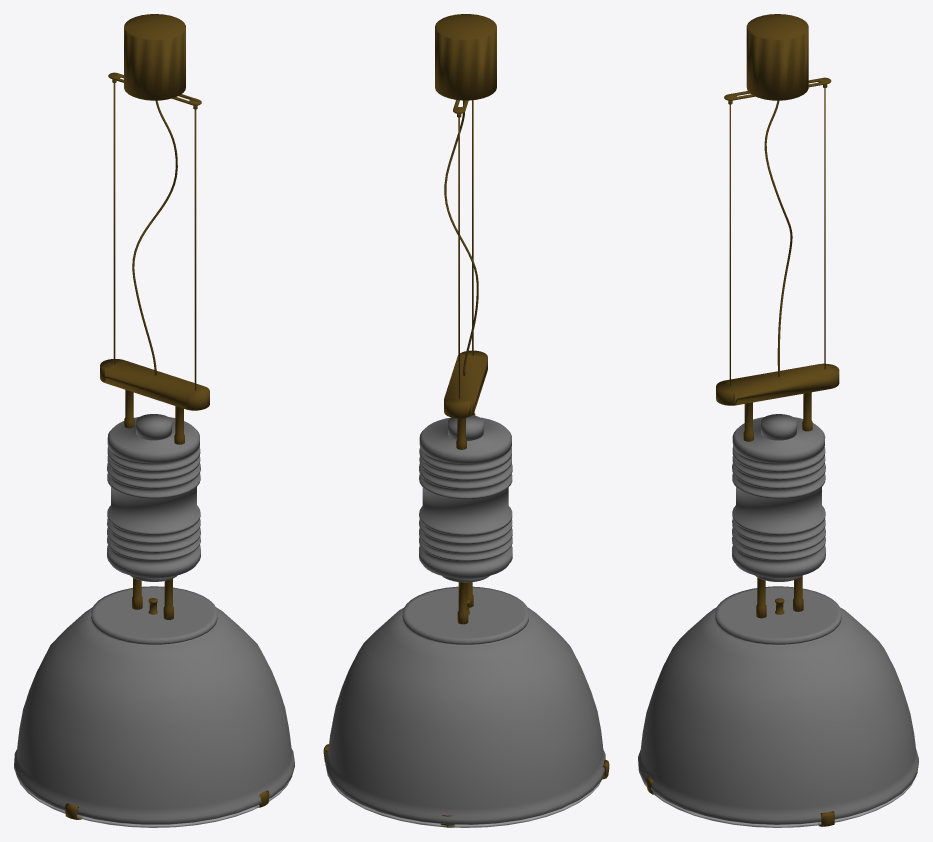
3 renders of one model, left to right at view 1: azimuth 30°, elevation 25°; view 2: azimuth 150°, elevation 25°; view 3: azimuth 270°, elevation 25°, orthographic.
Visible parts, largest first — view 1: mesh7-geometry-0, mesh8-geometry-0, mesh13-geometry-0, mesh19-geometry-0, mesh6-geometry-0, mesh14-geometry-0, mesh17-geometry-0, mesh18-geometry-0; view 2: mesh7-geometry-0, mesh8-geometry-0, mesh13-geometry-0, mesh19-geometry-0, mesh6-geometry-0, mesh18-geometry-0, mesh14-geometry-0; view 3: mesh7-geometry-0, mesh8-geometry-0, mesh13-geometry-0, mesh19-geometry-0, mesh6-geometry-0, mesh18-geometry-0, mesh14-geometry-0, mesh17-geometry-0.
Boxes of the visible parts, x1=… form: mesh7-geometry-0: x1=14, y1=586, x2=294, y2=824; mesh8-geometry-0: x1=107, y1=414, x2=200, y2=581; mesh13-geometry-0: x1=124, y1=14, x2=185, y2=100; mesh19-geometry-0: x1=100, y1=359, x2=209, y2=410; mesh6-geometry-0: x1=16, y1=774, x2=290, y2=827; mesh14-geometry-0: x1=113, y1=73, x2=115, y2=364; mesh17-geometry-0: x1=194, y1=99, x2=196, y2=390; mesh18-geometry-0: x1=132, y1=100, x2=177, y2=375; mesh7-geometry-0: x1=325, y1=586, x2=605, y2=824; mesh8-geometry-0: x1=419, y1=415, x2=512, y2=582; mesh13-geometry-0: x1=435, y1=14, x2=496, y2=100; mesh19-geometry-0: x1=444, y1=350, x2=487, y2=418; mesh6-geometry-0: x1=329, y1=776, x2=603, y2=827; mesh18-geometry-0: x1=444, y1=100, x2=478, y2=375; mesh14-geometry-0: x1=458, y1=107, x2=459, y2=398; mesh7-geometry-0: x1=638, y1=586, x2=918, y2=824; mesh8-geometry-0: x1=732, y1=414, x2=825, y2=581; mesh13-geometry-0: x1=746, y1=14, x2=808, y2=100; mesh19-geometry-0: x1=716, y1=363, x2=839, y2=405; mesh6-geometry-0: x1=641, y1=776, x2=916, y2=827; mesh18-geometry-0: x1=764, y1=100, x2=792, y2=376; mesh14-geometry-0: x1=824, y1=78, x2=825, y2=369; mesh17-geometry-0: x1=729, y1=94, x2=730, y2=385.
Bounding box in the file's own units: 0.3075 × 0.9005 × 0.3076.
